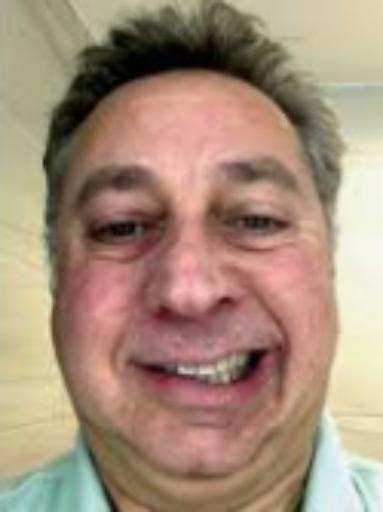left_eye: (220, 214, 293, 241)
left_lip_corner: (259, 342, 287, 366)
right_eye: (89, 218, 162, 247)
right_lip_corner: (117, 350, 151, 377)
